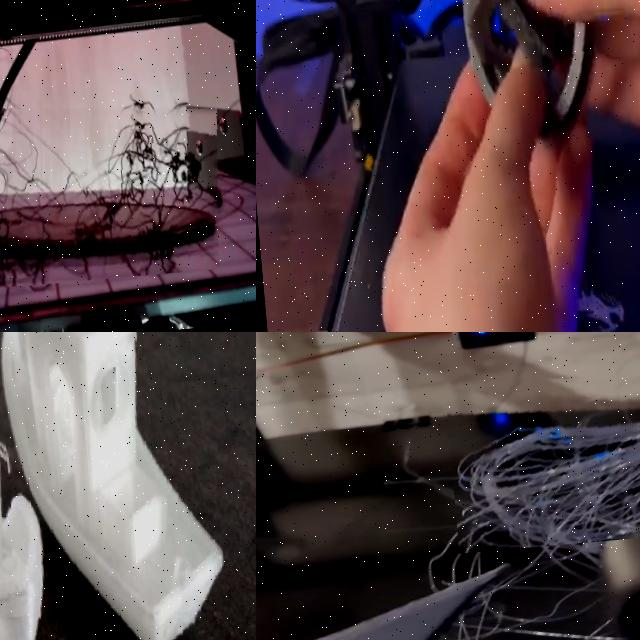spaghetti: (0, 80, 230, 295), (443, 347, 640, 553)
